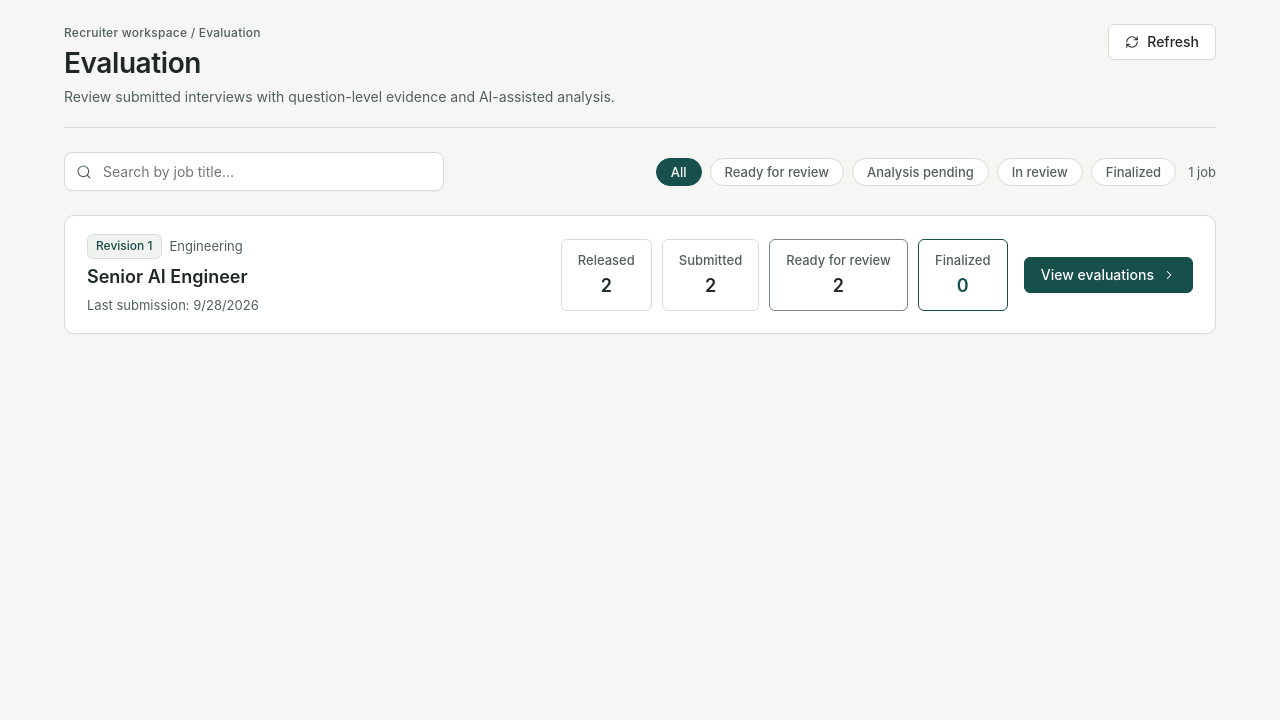
Test: Phase 4D.4: Mode-Aware Evaluation UI & Export › displays audio evaluation detail with transcript notice and confirmed transcript label
This screenshot has width=1280, height=720.
Expected: the heading "Senior AI Engineer" is shown, [87, 266, 248, 287]
Step 1. Click the button with aria-label "view evaluations for senior ai engineer" → (1108, 275), box [1024, 257, 1193, 293]
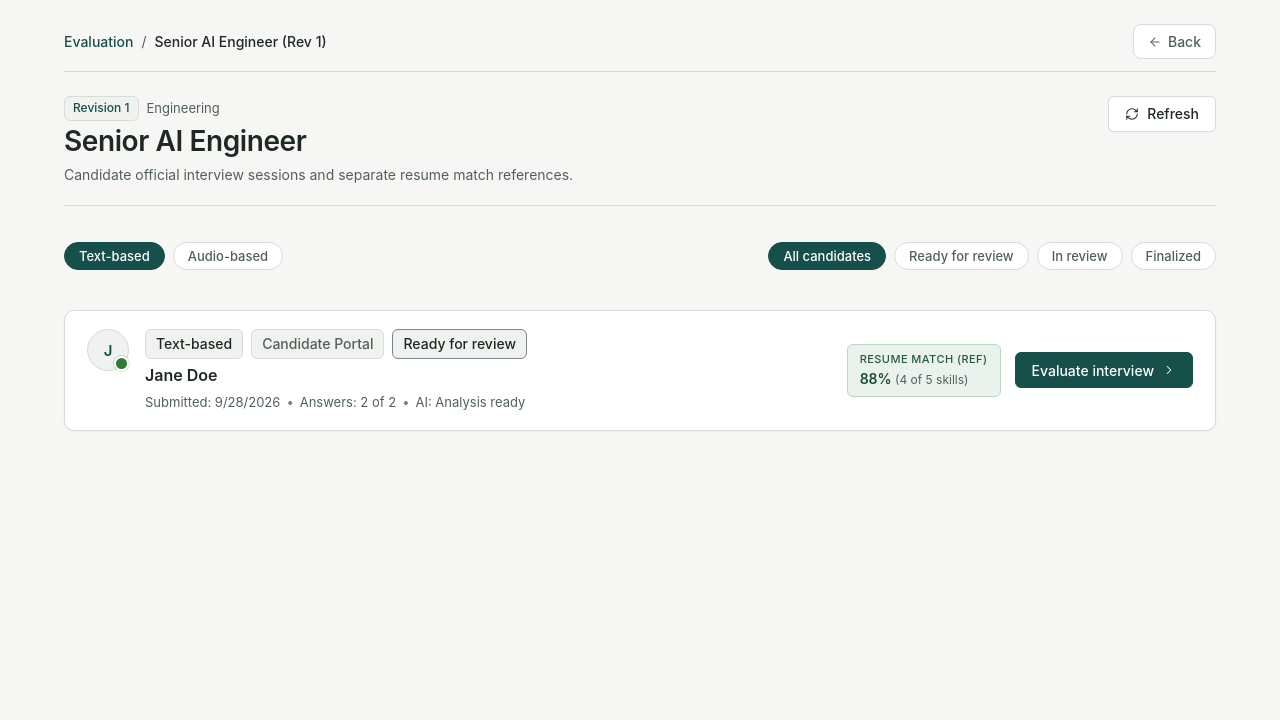
Expected: the button "Audio-based" is shown
Step 2. Click the button "Audio-based" → (228, 256), box [173, 242, 283, 270]
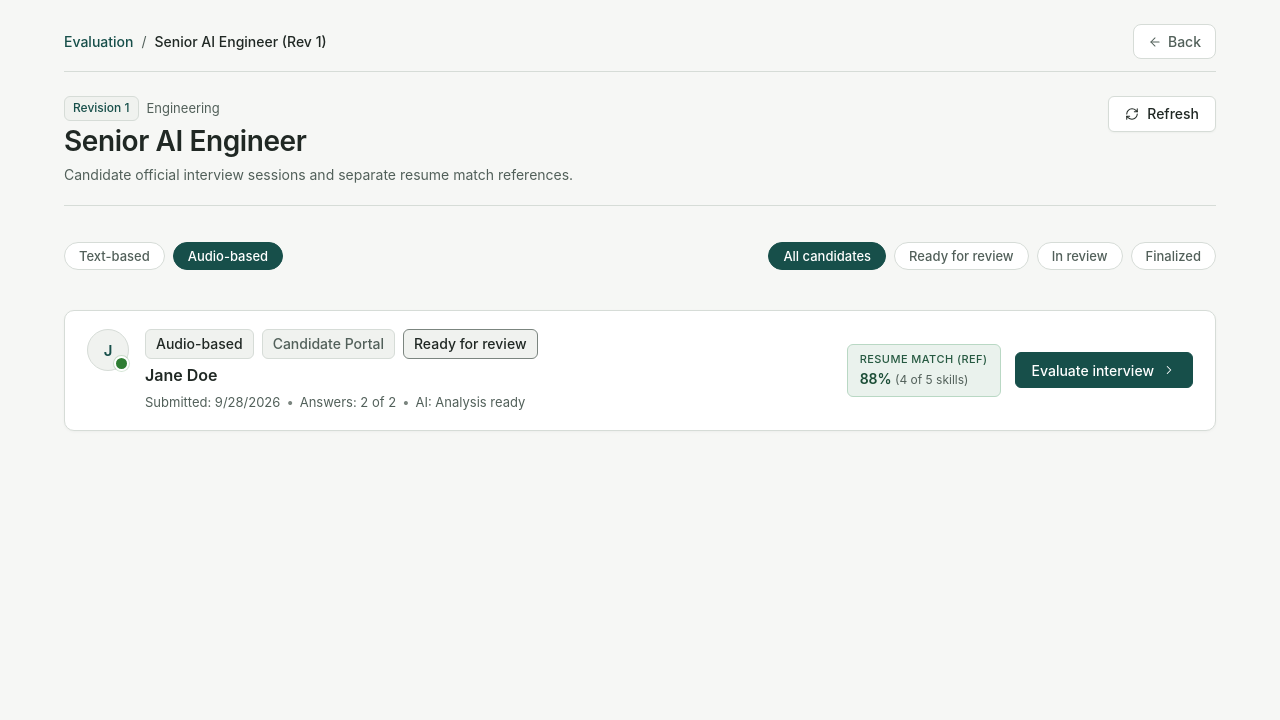
Expected: the text "Audio-based" is shown, [145, 329, 254, 359]
Note: Click evaluate on the audio interview card
Step 3. Click the button "Evaluate interview" → (1104, 370), box [1014, 352, 1193, 388]
(page scrolled)
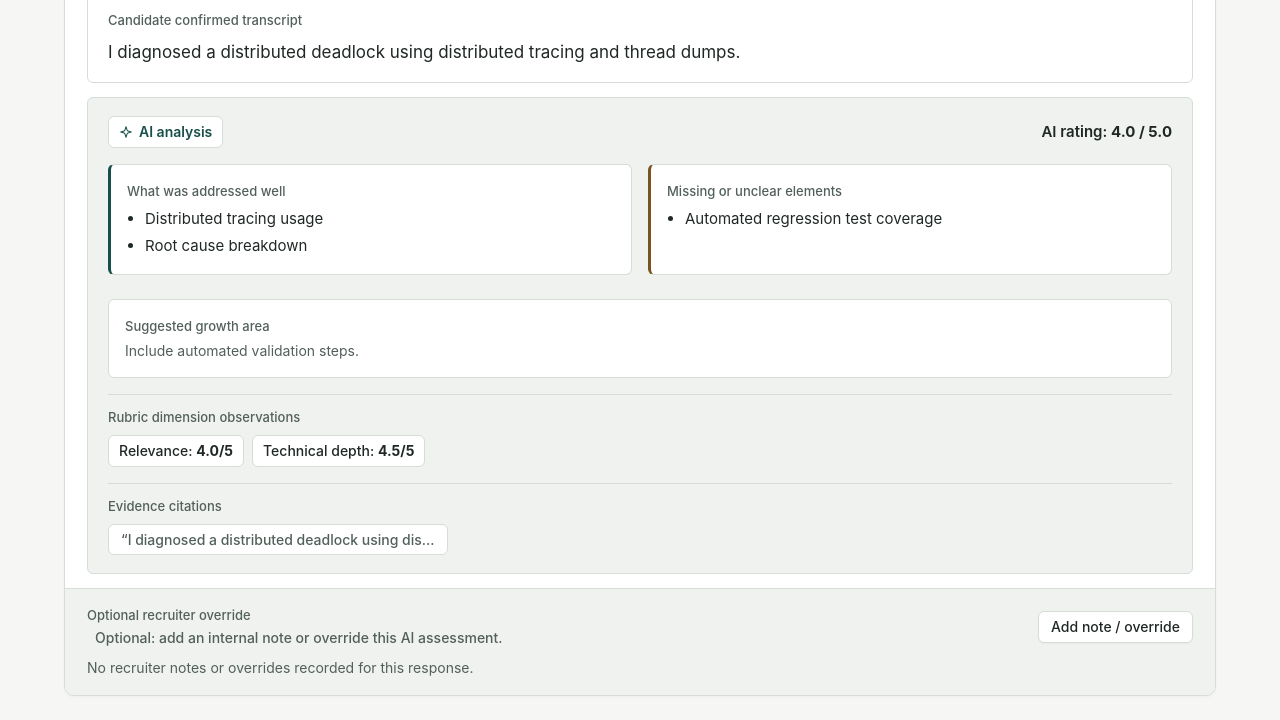
Expected: the text "Candidate confirmed transcript" is shown, [108, 12, 302, 28]
Expected: the text "I diagnosed a distributed deadlock" is shown, [108, 42, 740, 62]
Expected: the element with class "eval-ai-dimension-pills" is shown, [108, 436, 425, 467]
